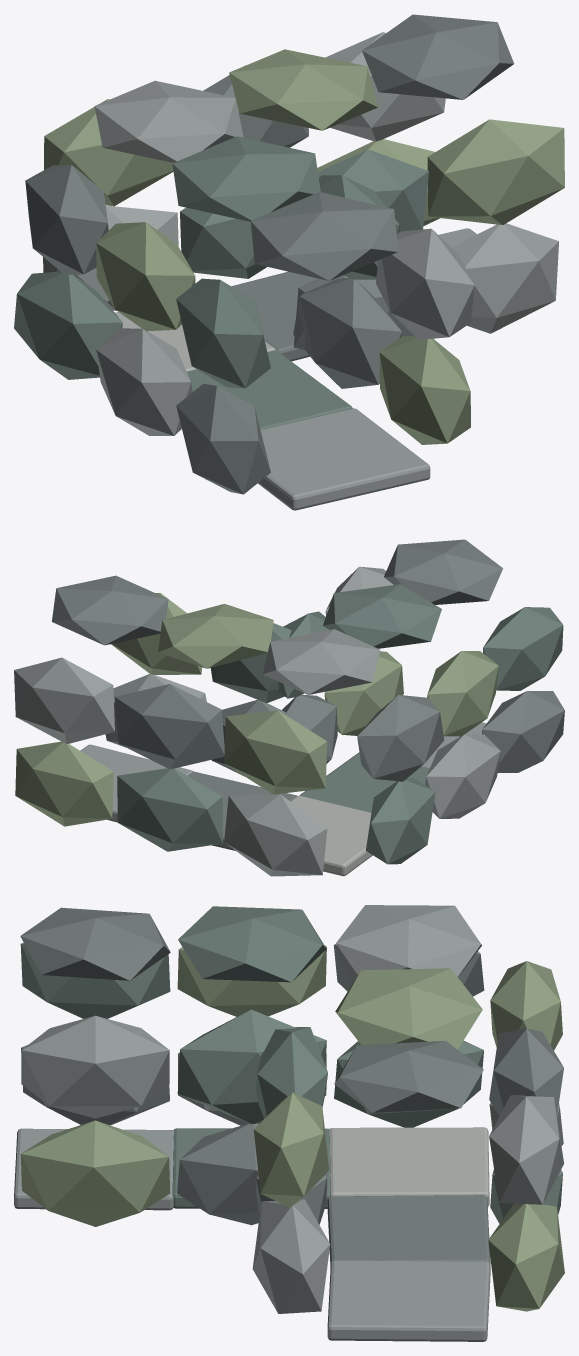
The model's file is tunnel_turn_6x6x3p5.glb.
3 renders of one model, top to bottom at view 1: azimuth 30°, elevation 25°; view 2: azimuth 150°, elevation 25°; view 3: azimuth 270°, elevation 25°, orthographic. The views are drawn at different scales.
Visible parts, largest first — view 1: tunnel_turn_wall_20, tunnel_turn_floor_01, tunnel_turn_ceiling_05, tunnel_turn_ceiling_01, tunnel_turn_ceiling_02, tunnel_turn_ceiling_03, tunnel_turn_ceiling_04, tunnel_turn_wall_10, tunnel_turn_wall_03, tunnel_turn_wall_14, tunnel_turn_wall_04, tunnel_turn_wall_12 (+17 smaller); view 2: tunnel_turn_wall_17, tunnel_turn_wall_07, tunnel_turn_wall_16, tunnel_turn_wall_06, tunnel_turn_wall_18, tunnel_turn_wall_08, tunnel_turn_ceiling_05, tunnel_turn_ceiling_01, tunnel_turn_ceiling_03, tunnel_turn_ceiling_02, tunnel_turn_ceiling_04, tunnel_turn_wall_13 (+17 smaller); view 3: tunnel_turn_floor_05, tunnel_turn_wall_04, tunnel_turn_wall_14, tunnel_turn_floor_03, tunnel_turn_floor_04, tunnel_turn_ceiling_04, tunnel_turn_ceiling_02, tunnel_turn_ceiling_01, tunnel_turn_ceiling_05, tunnel_turn_ceiling_03, tunnel_turn_wall_15, tunnel_turn_wall_10 (+16 smaller).
Boxes of the visible parts, x1=… form: tunnel_turn_wall_20: x1=427, y1=119, x2=564, y2=224; tunnel_turn_floor_01: x1=258, y1=408, x2=430, y2=510; tunnel_turn_ceiling_05: x1=362, y1=14, x2=514, y2=99; tunnel_turn_ceiling_01: x1=250, y1=192, x2=398, y2=280; tunnel_turn_ceiling_02: x1=172, y1=136, x2=320, y2=221; tunnel_turn_ceiling_03: x1=94, y1=80, x2=243, y2=162; tunnel_turn_ceiling_04: x1=229, y1=49, x2=378, y2=130; tunnel_turn_wall_10: x1=451, y1=223, x2=558, y2=333; tunnel_turn_wall_03: x1=14, y1=271, x2=122, y2=379; tunnel_turn_wall_14: x1=376, y1=228, x2=474, y2=339; tunnel_turn_wall_04: x1=379, y1=335, x2=470, y2=444; tunnel_turn_wall_12: x1=96, y1=222, x2=195, y2=331; tunnel_turn_wall_17: x1=115, y1=684, x2=224, y2=768; tunnel_turn_wall_07: x1=117, y1=768, x2=222, y2=851; tunnel_turn_wall_16: x1=224, y1=710, x2=327, y2=794; tunnel_turn_wall_06: x1=224, y1=794, x2=327, y2=876; tunnel_turn_wall_18: x1=14, y1=657, x2=114, y2=743; tunnel_turn_wall_08: x1=15, y1=741, x2=113, y2=826; tunnel_turn_ceiling_05: x1=52, y1=575, x2=168, y2=645; tunnel_turn_ceiling_01: x1=384, y1=539, x2=502, y2=604; tunnel_turn_ceiling_03: x1=262, y1=629, x2=380, y2=694; tunnel_turn_ceiling_02: x1=323, y1=584, x2=441, y2=648; tunnel_turn_ceiling_04: x1=158, y1=604, x2=273, y2=668; tunnel_turn_wall_13: x1=357, y1=695, x2=444, y2=781; tunnel_turn_floor_05: x1=327, y1=1260, x2=490, y2=1341; tunnel_turn_wall_04: x1=20, y1=1120, x2=170, y2=1226; tunnel_turn_wall_14: x1=21, y1=1015, x2=169, y2=1118; tunnel_turn_floor_03: x1=329, y1=1127, x2=489, y2=1206; tunnel_turn_floor_04: x1=327, y1=1195, x2=490, y2=1267; tunnel_turn_ceiling_04: x1=335, y1=968, x2=482, y2=1049; tunnel_turn_ceiling_02: x1=178, y1=906, x2=326, y2=982; tunnel_turn_ceiling_01: x1=20, y1=907, x2=170, y2=980; tunnel_turn_ceiling_05: x1=334, y1=1040, x2=483, y2=1112; tunnel_turn_ceiling_03: x1=336, y1=905, x2=481, y2=976; tunnel_turn_wall_15: x1=177, y1=1009, x2=326, y2=1123; tunnel_turn_wall_10: x1=252, y1=1199, x2=330, y2=1313.
Size of the model in its own units: 7.04 by 3.66 by 7.03.
